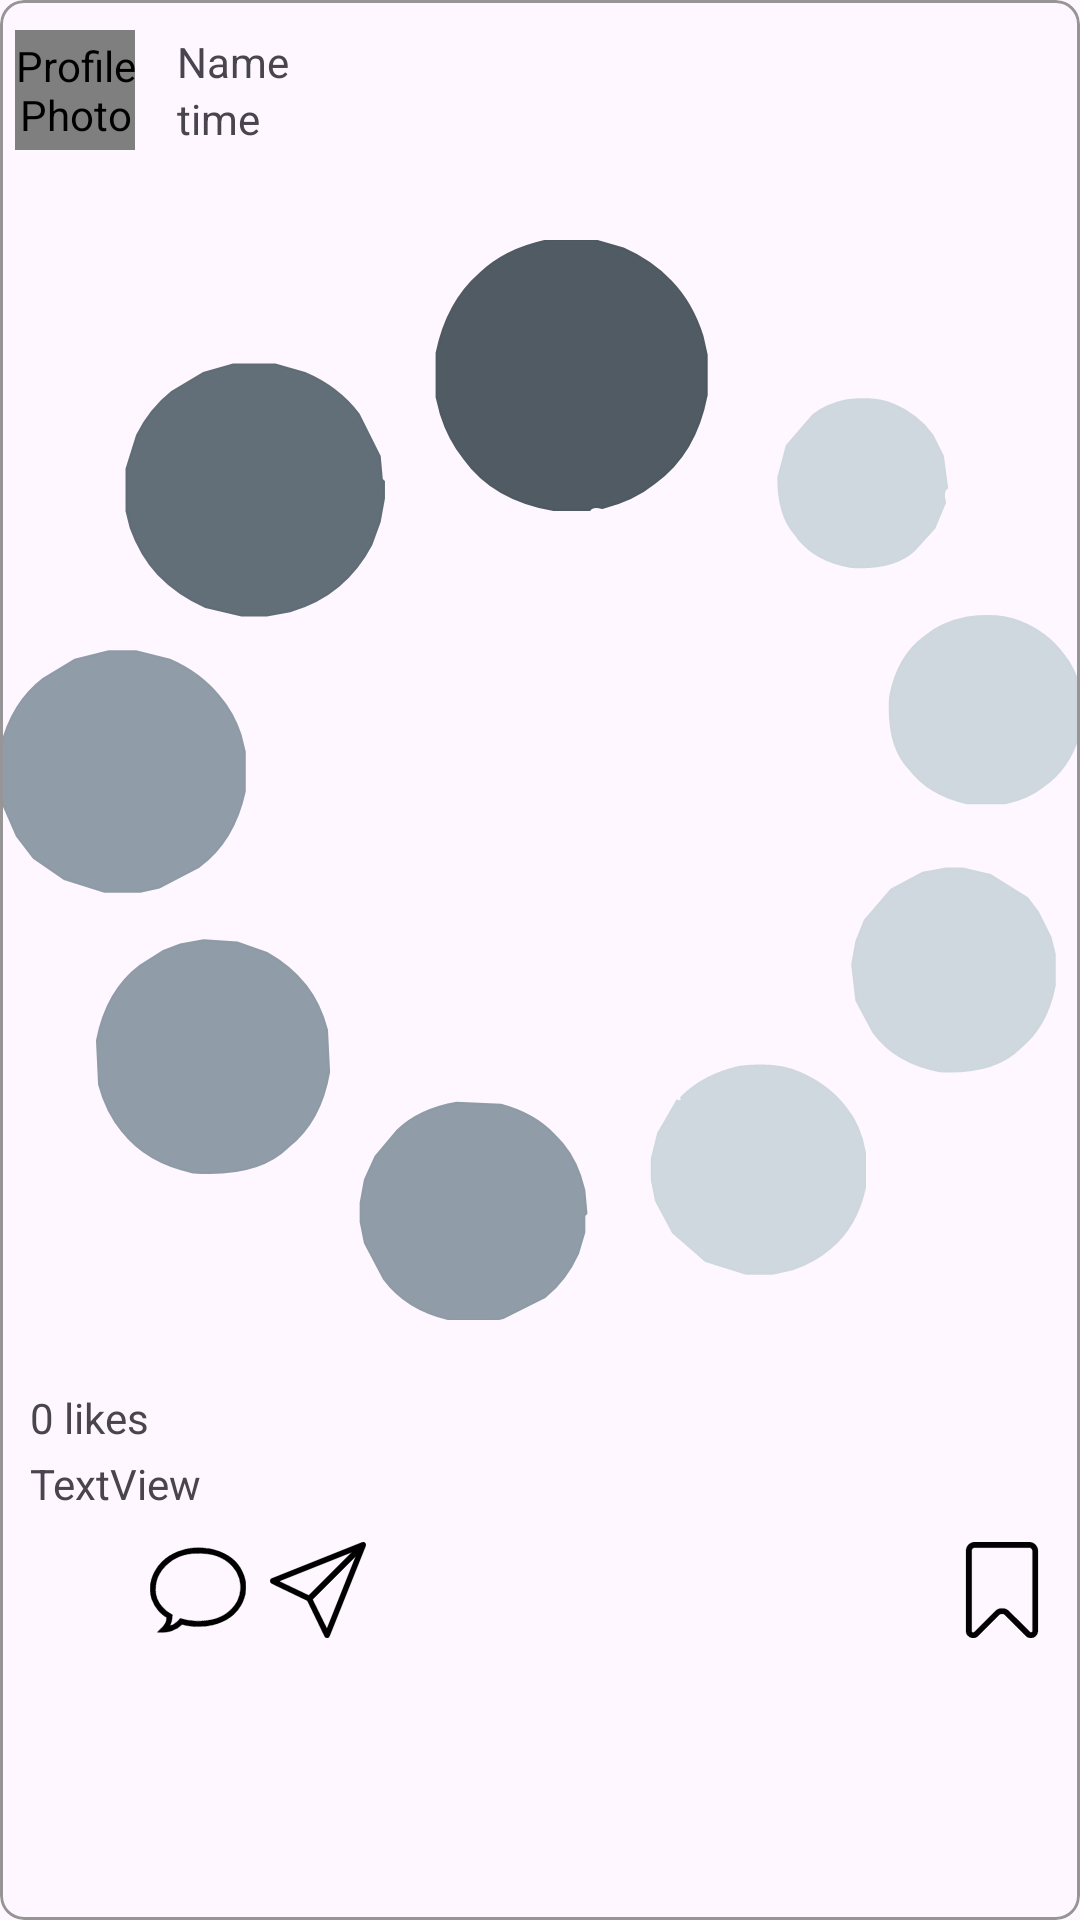

Icon click points for this 1080px x 1920px phone screenshot, format (x,y):
Add a Comment: (198,1590)
Save this Post: (1002,1590)
Share this Post: (318,1590)
